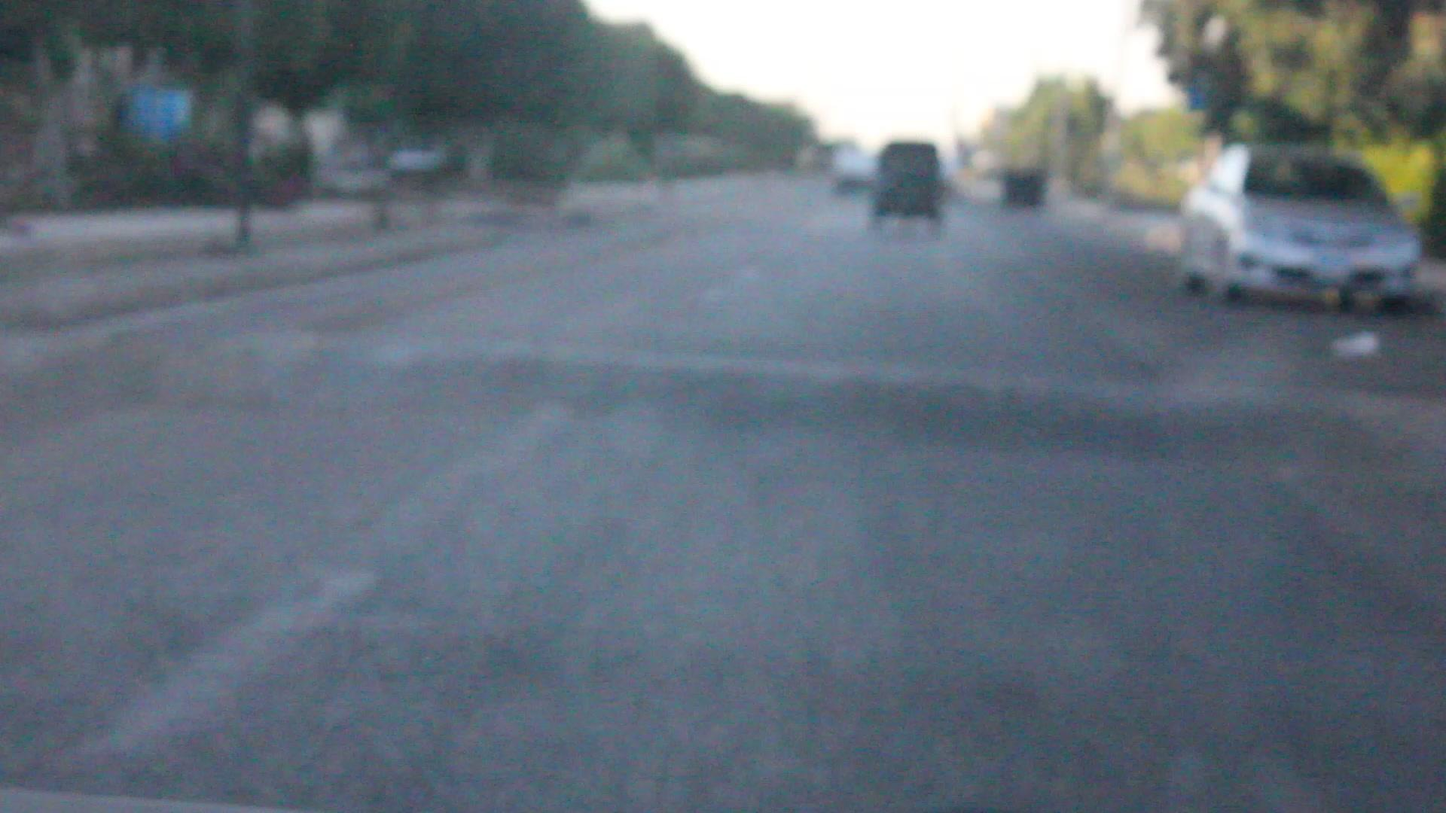Bump: (51, 305, 1442, 487)
